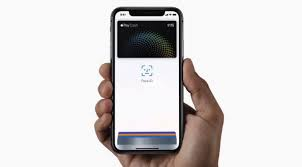iphone: (109, 4, 184, 155)
iphone10: (108, 5, 183, 156)
